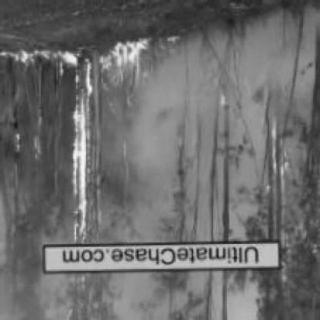Fire: (5, 49, 107, 246), (96, 36, 186, 99), (270, 137, 298, 285)
